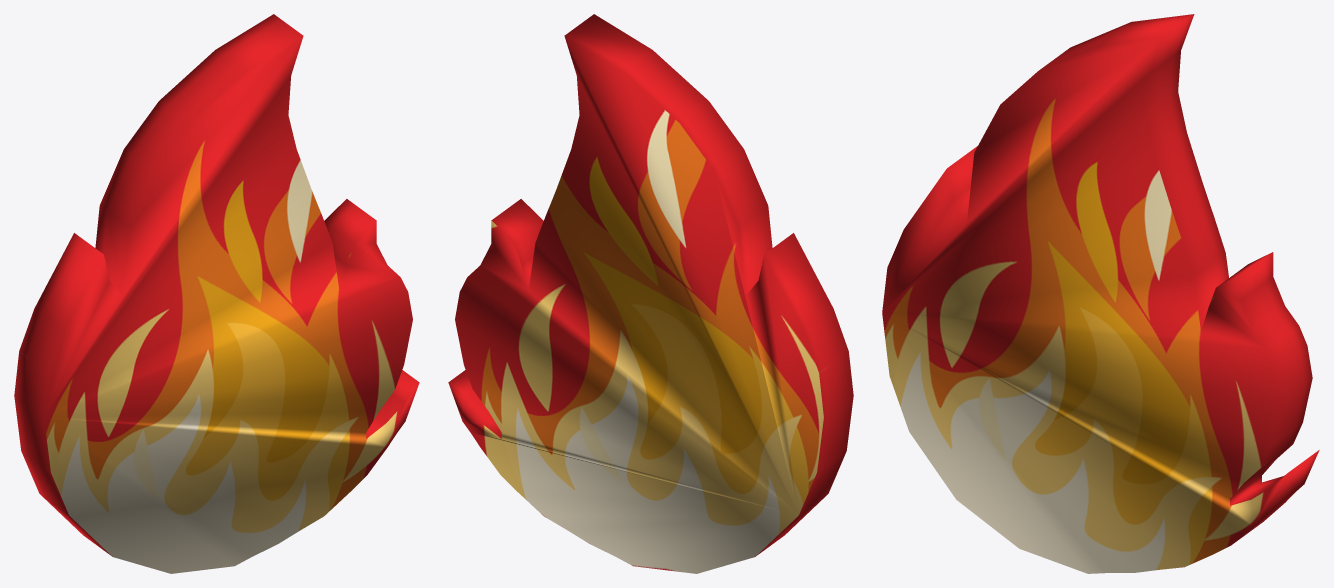
File: FuocoCandela.fbx
The picture shows the model from 3 angles, left to right: view 1: azimuth 30°, elevation 25°; view 2: azimuth 150°, elevation 25°; view 3: azimuth 330°, elevation 25°; orthographic projection. The views are drawn at different scales.
Parts seen in each view (by area): view 1: Plane; view 2: Plane; view 3: Plane.
Part boxes in pixels (x1=…): Plane: x1=14, y1=14, x2=419, y2=573; Plane: x1=448, y1=14, x2=853, y2=573; Plane: x1=882, y1=14, x2=1319, y2=573.
Bounding box in the file's own units: 2.08 × 2.72 × 0.2855.
Materials: 1 (1 with a texture image).
